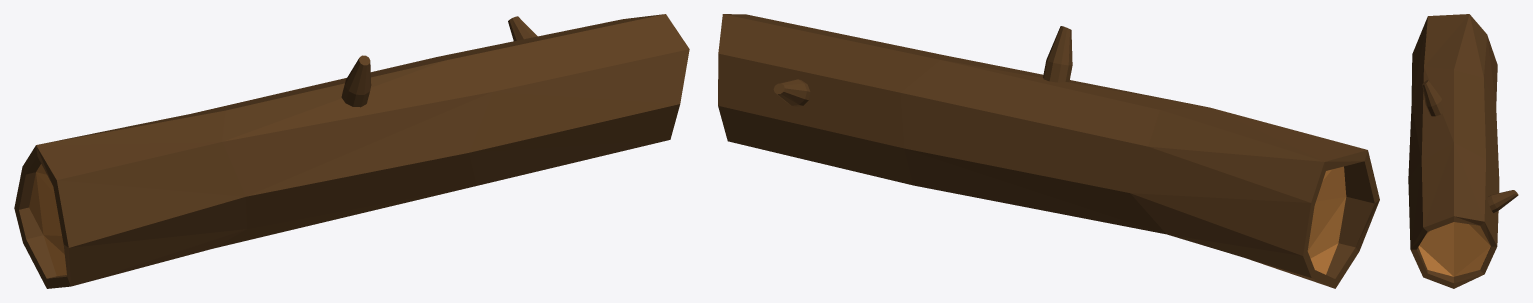
The model's file is Trunk.fbx.
3 renders of one model, left to right at view 1: azimuth 30°, elevation 25°; view 2: azimuth 150°, elevation 25°; view 3: azimuth 270°, elevation 25°, orthographic. The views are drawn at different scales.
Parts seen in each view (by area): view 1: Cylinder; view 2: Cylinder; view 3: Cylinder.
Part boxes in pixels (x1=…): Cylinder: x1=14, y1=14, x2=689, y2=288; Cylinder: x1=718, y1=14, x2=1379, y2=288; Cylinder: x1=1408, y1=14, x2=1518, y2=288.
Bounding box in the file's own units: 548 × 147 × 128.
